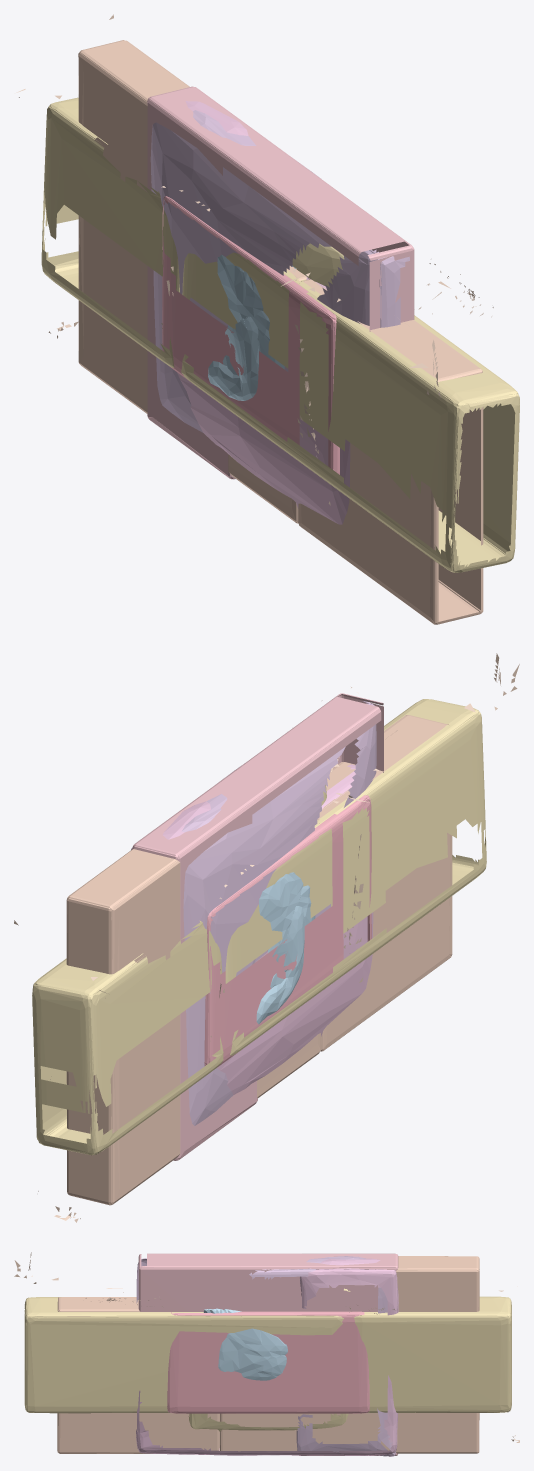
The model's file is view_input_colored.glb.
3 views of the same model, one above another, from view 1: azimuth 30°, elevation 25°; view 2: azimuth 150°, elevation 25°; view 3: azimuth 270°, elevation 25° (orthographic). The views are drawn at different scales.
Parts seen in each view (by area): view 1: world; view 2: world; view 3: world.
Boxes of the visible parts, bbox=[...] form: world: bbox=[16, 14, 519, 624]; world: bbox=[14, 653, 519, 1222]; world: bbox=[14, 1252, 519, 1456].
Size of the model in its own units: 0.1265 by 0.3305 by 0.7878.
